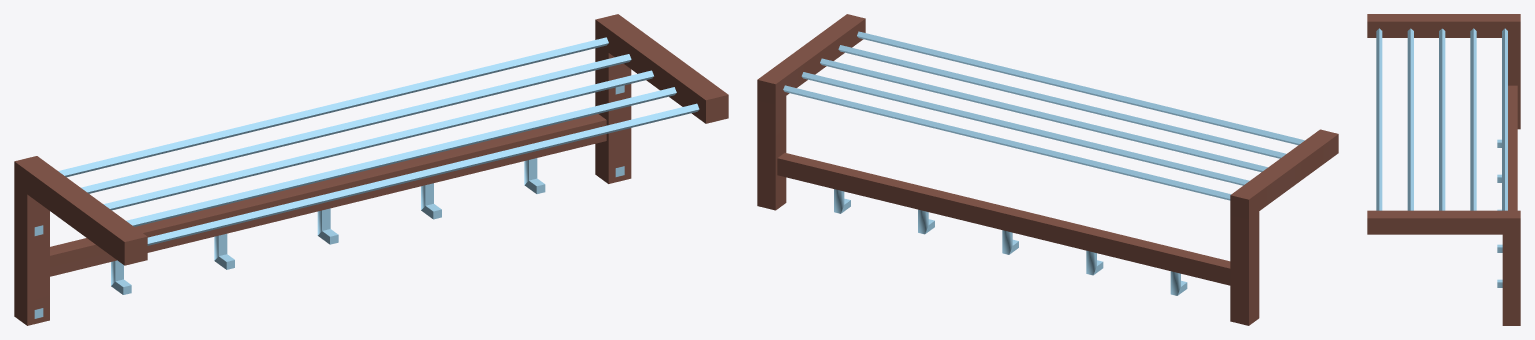
Rendered from shelf_041.glb.
3 views of the same model, side by side, from view 1: azimuth 30°, elevation 25°; view 2: azimuth 150°, elevation 25°; view 3: azimuth 270°, elevation 25° (orthographic). The views are drawn at different scales.
Parts seen in each view (by area): view 1: shelf_041; view 2: shelf_041; view 3: shelf_041.
Boxes of the visible parts, x1,y1,x2,y2 form: shelf_041: (14, 14, 728, 325); shelf_041: (757, 14, 1338, 325); shelf_041: (1367, 14, 1520, 325).
Size of the model in its own units: 0.8884 by 0.218 by 0.2813.
1 material, 1 textured.
